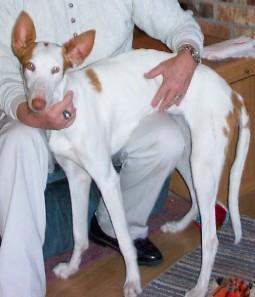Ibizan_hound: (9, 9, 252, 296)
